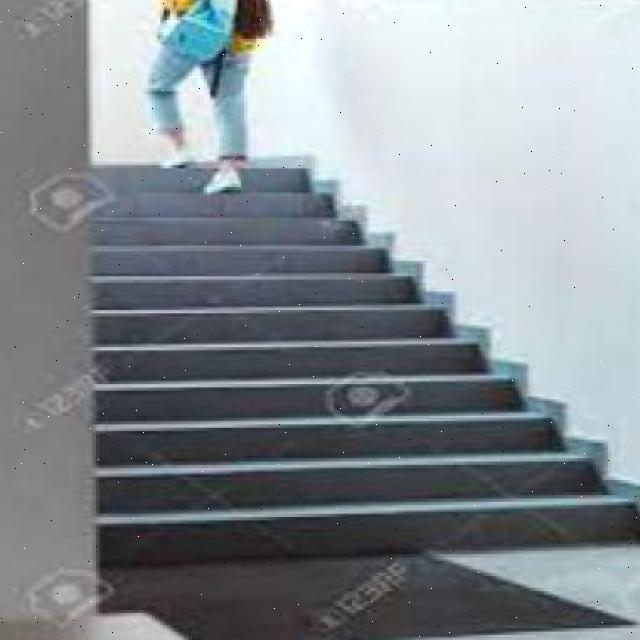stair: (88, 276, 640, 547)
